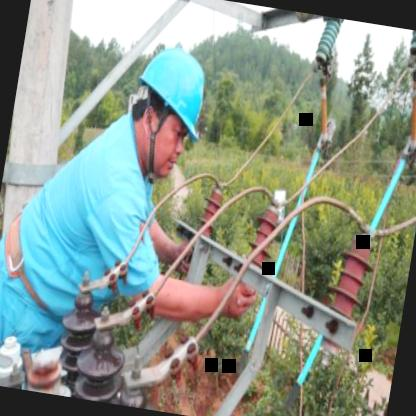helmet: (114, 29, 225, 187)
